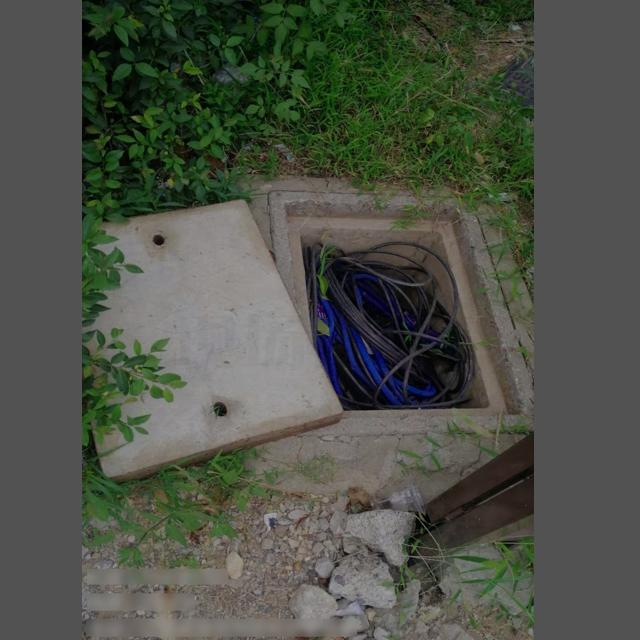uncovered: (82, 198, 534, 485)
